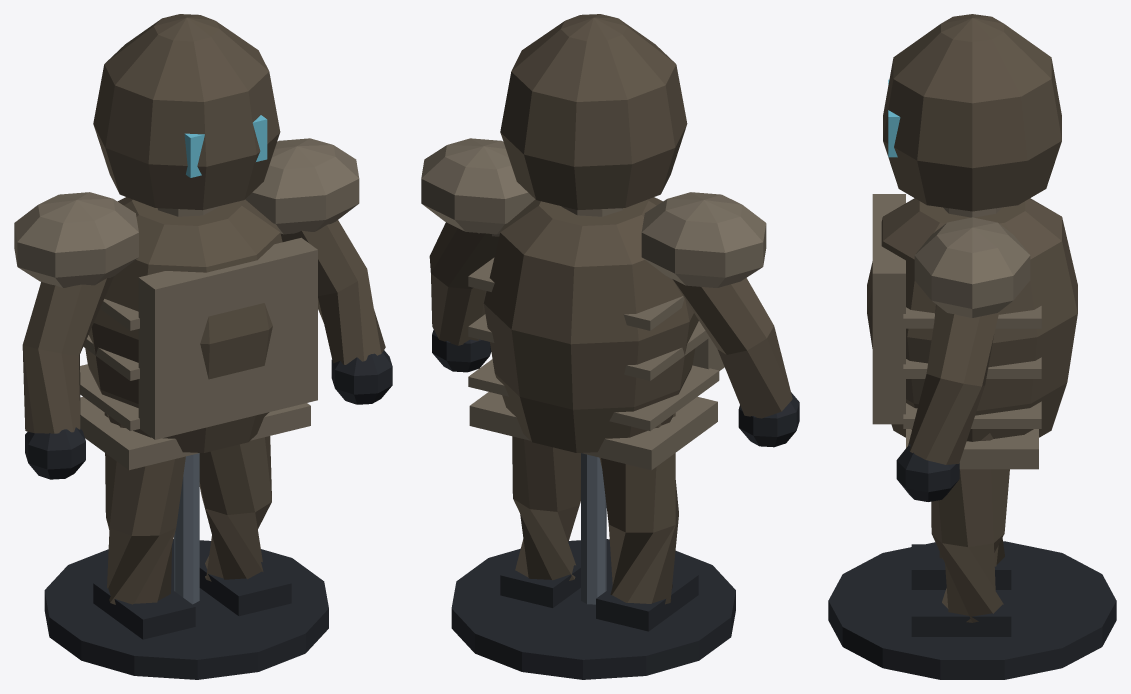
The model's file is weave-armor.glb.
The picture shows the model from 3 angles, left to right: view 1: azimuth 30°, elevation 25°; view 2: azimuth 150°, elevation 25°; view 3: azimuth 270°, elevation 25°; orthographic projection.
Visible parts, largest first — view 1: m; view 2: m; view 3: m.
Part boxes in pixels (x1,y1,x2,y2): m: (14, 14, 392, 679); m: (421, 14, 799, 679); m: (828, 14, 1116, 679).
Bounding box in the file's own units: 0.352 × 0.56 × 0.2426.
